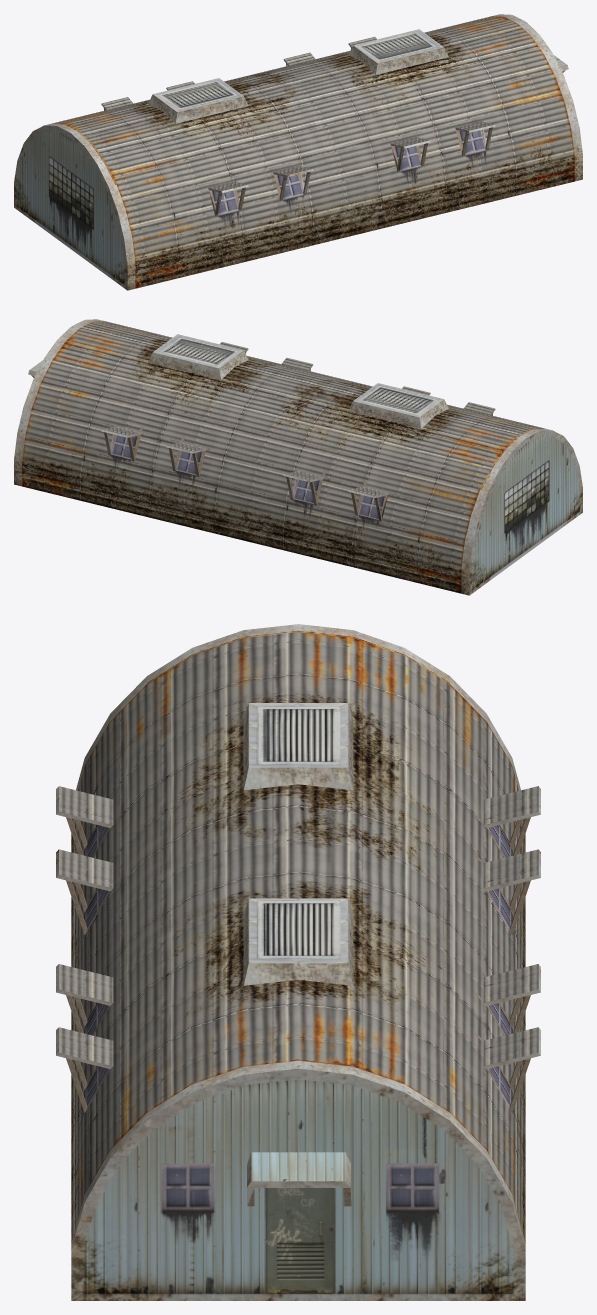
File: Kazarmaz.fbx
3 views of the same model, one above another, from view 1: azimuth 30°, elevation 25°; view 2: azimuth 150°, elevation 25°; view 3: azimuth 270°, elevation 25° (orthographic). The views are drawn at different scales.
Visible parts, largest first — view 1: Cylinder001; view 2: Cylinder001; view 3: Cylinder001.
Part boxes in pixels (x1,y1,x2,y2): Cylinder001: [14, 14, 582, 290]; Cylinder001: [14, 319, 582, 595]; Cylinder001: [56, 624, 540, 1300].
Bounding box in the file's own units: 4900 × 1185 × 2120.
